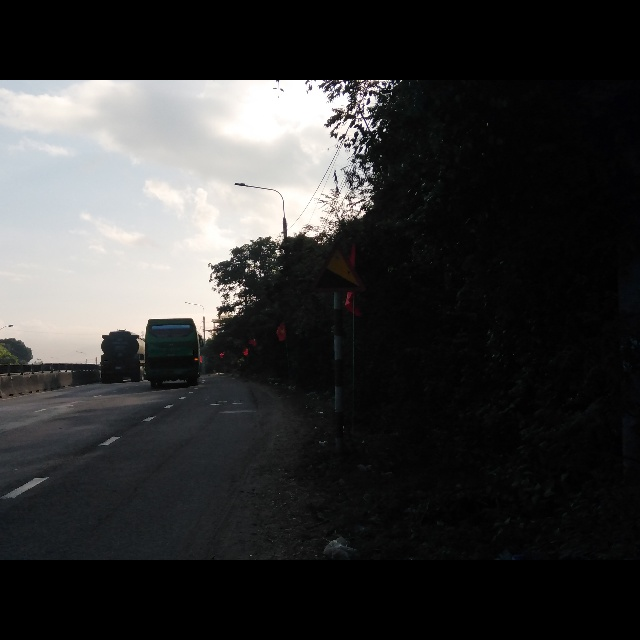Dốc lên nguy hiểm: (307, 241, 361, 296)
